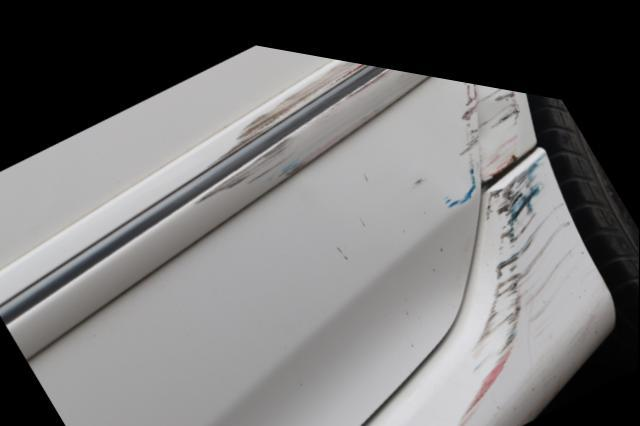scratch: (440, 129, 596, 426), (197, 48, 417, 193), (475, 67, 527, 168), (443, 65, 482, 194)
